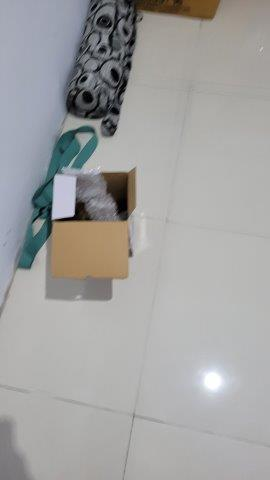kardus: (50, 168, 140, 279)
